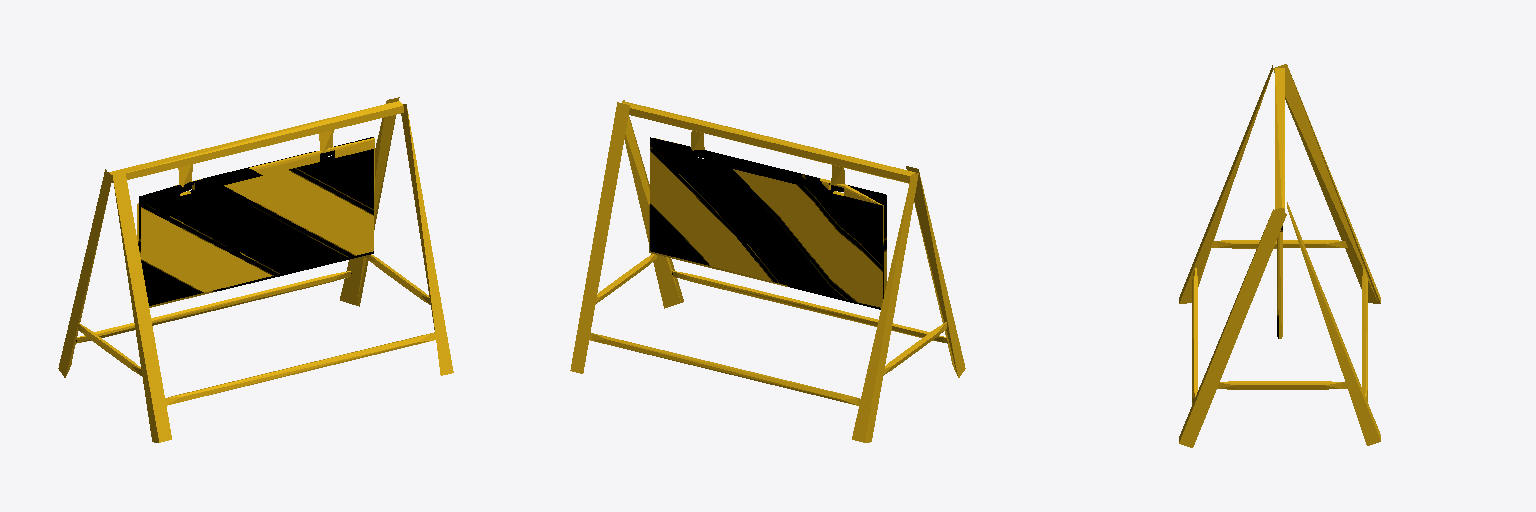
The picture shows the model from 3 angles: view 1: azimuth 30°, elevation 25°; view 2: azimuth 150°, elevation 25°; view 3: azimuth 270°, elevation 25°; orthographic projection.
Parts seen in each view (by area): view 1: group2 pCube7, group2 pCube4, group2 pCylinder1, group2 pCube1, group2 pCylinder8, pCube3 group2, group2 pCube2, group2 pCylinder9, group2 pCylinder2, group2 pCylinder3; view 2: group2 pCube7, pCube3 group2, group2 pCube2, group2 pCylinder1, group2 pCube4, group2 pCylinder9, group2 pCube1, group2 pCylinder8, group2 pCylinder2, group2 pCylinder3; view 3: group2 pCube1, pCube3 group2, group2 pCube2, group2 pCube4, group2 pCylinder1, group2 pCylinder3, group2 pCylinder2, group2 pCylinder8, group2 pCylinder9, group2 pCube7.
Boxes of the visible parts, x1,y1,x2,y2 form: group2 pCube7: [137, 137, 374, 307]; group2 pCube4: [112, 171, 171, 442]; group2 pCylinder1: [108, 101, 403, 182]; group2 pCube1: [401, 104, 453, 375]; group2 pCylinder8: [165, 332, 435, 405]; pCube3 group2: [58, 169, 111, 377]; group2 pCube2: [340, 97, 399, 306]; group2 pCylinder9: [76, 271, 351, 343]; group2 pCylinder2: [78, 323, 141, 375]; group2 pCylinder3: [365, 254, 430, 304]; group2 pCube7: [649, 137, 886, 309]; pCube3 group2: [852, 173, 918, 442]; group2 pCube2: [570, 102, 629, 373]; group2 pCylinder1: [622, 102, 915, 183]; group2 pCube4: [906, 166, 965, 377]; group2 pCylinder9: [589, 333, 860, 405]; group2 pCube1: [622, 100, 683, 308]; group2 pCylinder8: [672, 270, 947, 343]; group2 pCylinder2: [883, 322, 946, 375]; group2 pCylinder3: [596, 254, 656, 303]; group2 pCube1: [1179, 209, 1286, 447]; pCube3 group2: [1273, 64, 1380, 303]; group2 pCube2: [1287, 202, 1380, 445]; group2 pCube4: [1179, 65, 1272, 303]; group2 pCylinder1: [1275, 68, 1284, 212]; group2 pCylinder3: [1217, 381, 1347, 389]; group2 pCylinder2: [1211, 240, 1347, 248]; group2 pCylinder8: [1192, 268, 1197, 403]; group2 pCylinder9: [1362, 268, 1367, 401]; group2 pCube7: [1277, 226, 1282, 338].
Bounding box in the file's own units: 2.74 × 2.14 × 1.63.
2 materials, 1 textured.